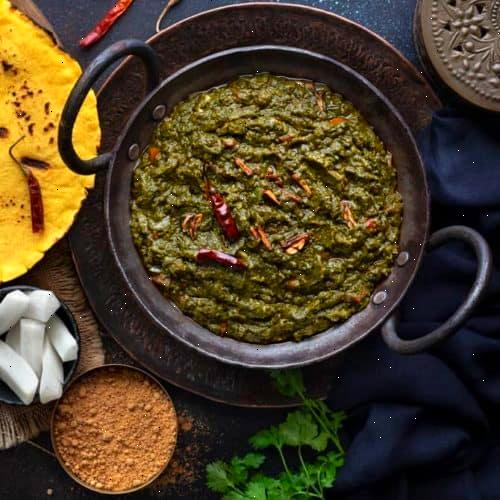saag: (130, 74, 409, 344)
